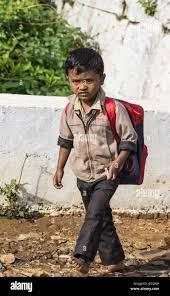Human: (49, 40, 144, 290)
